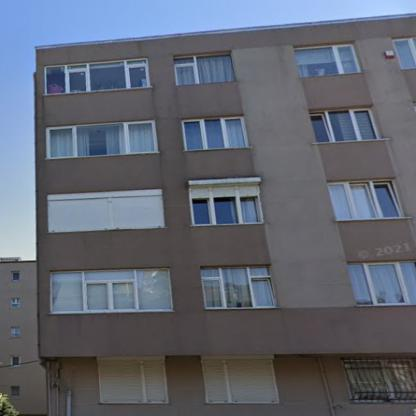window: (51, 268, 170, 312), (47, 191, 164, 233), (47, 121, 156, 158), (46, 59, 149, 94), (201, 266, 275, 308), (202, 361, 277, 402), (341, 360, 415, 401), (346, 261, 415, 304), (99, 361, 169, 402), (327, 181, 400, 219), (192, 188, 260, 225), (310, 109, 378, 142), (183, 118, 245, 149), (295, 46, 359, 76), (174, 54, 233, 85), (393, 38, 416, 68), (11, 298, 19, 307), (12, 356, 19, 366), (12, 387, 20, 395), (13, 272, 20, 280), (13, 327, 19, 335)
